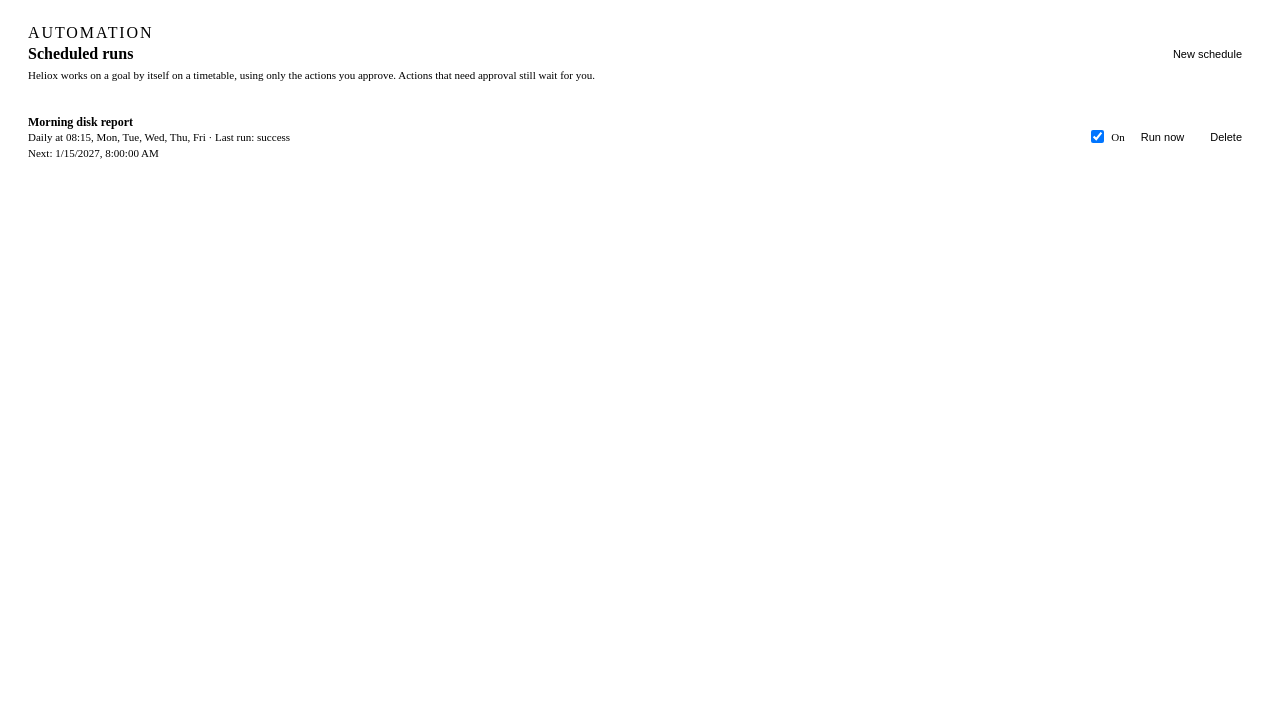
Test: ScheduledRunsPanel › toggles, runs now and deletes through the dedicated RPCs
This screenshot has width=1280, height=720.
Click the checkbox named "Enable Morning disk report": (1098, 137) top-left (1091, 130), bottom-right (1104, 143)
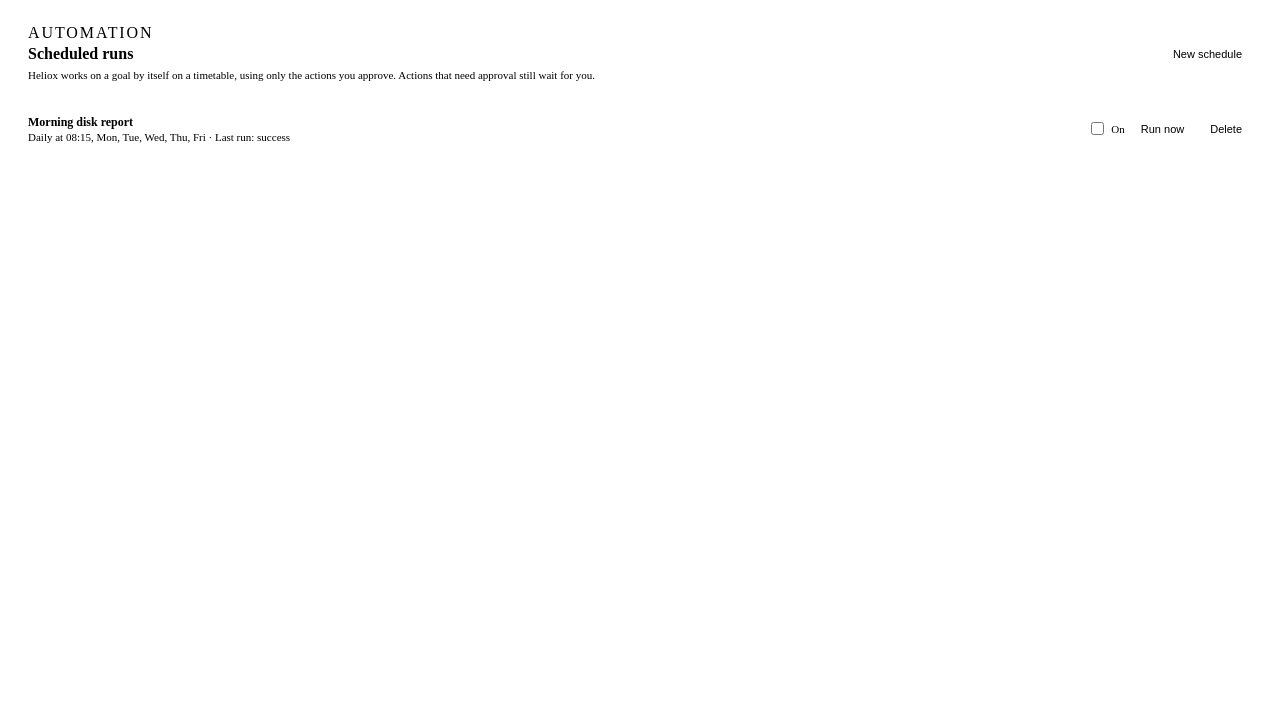
Click the button "Run now": (1162, 129) top-left (1131, 117), bottom-right (1194, 141)
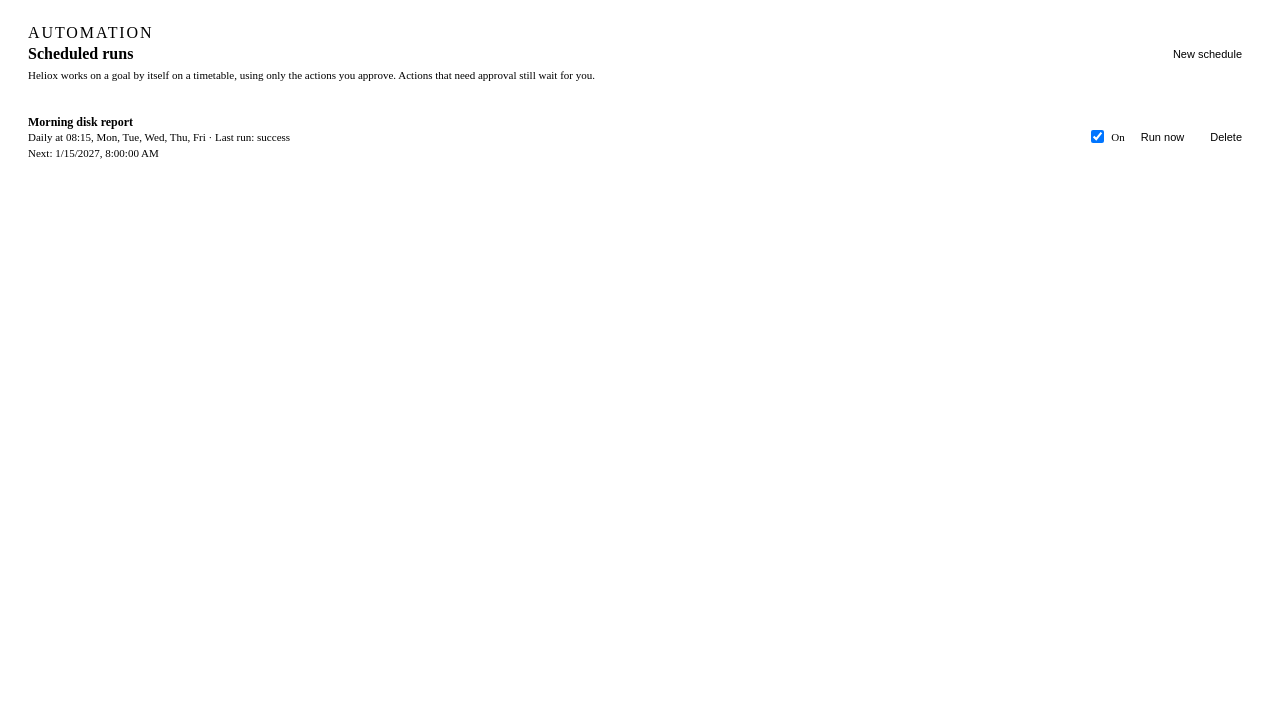
Click the button "Delete": (1226, 137) top-left (1200, 125), bottom-right (1252, 149)
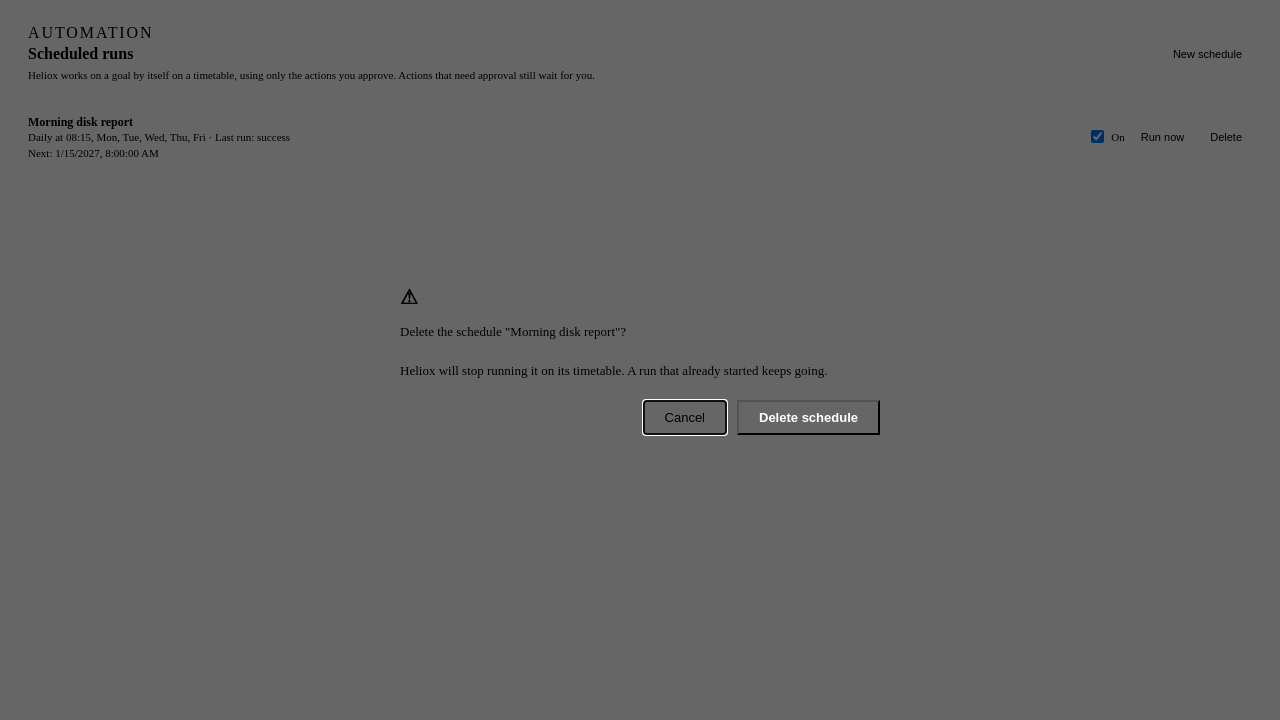
Click the button "Delete schedule": (808, 418) top-left (737, 400), bottom-right (880, 435)
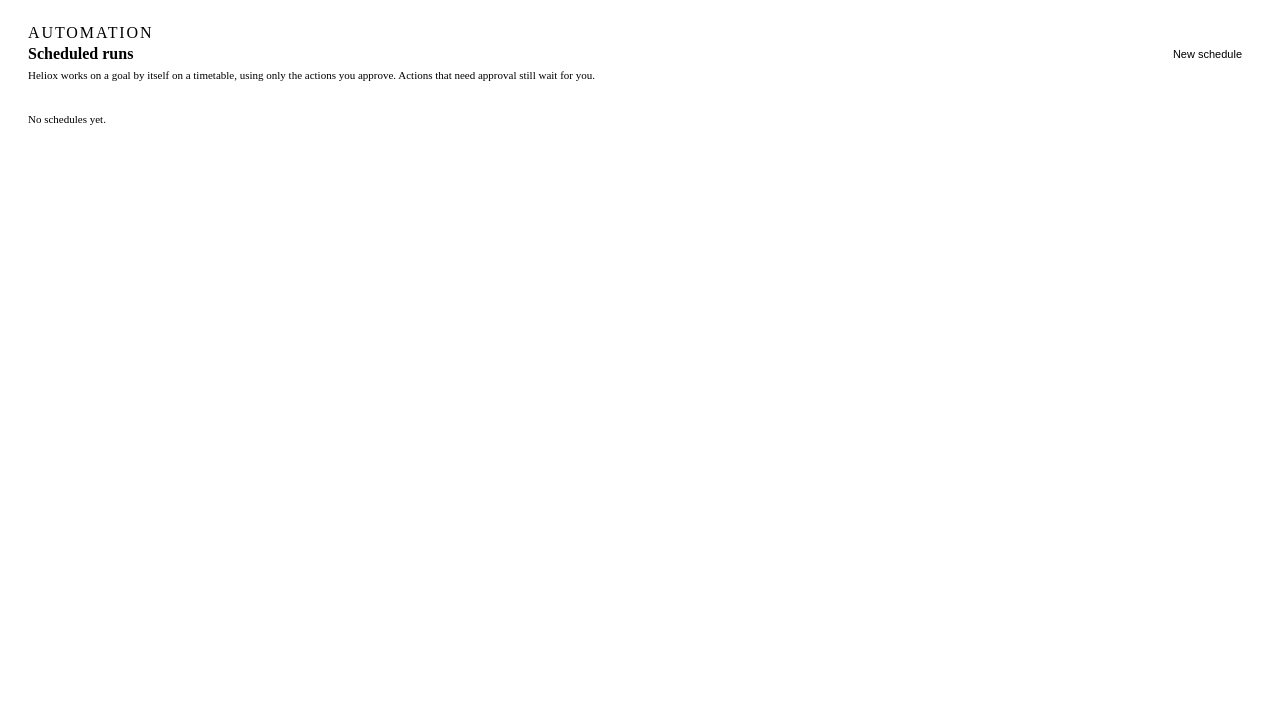
Check: the text "Morning disk report" is gone
